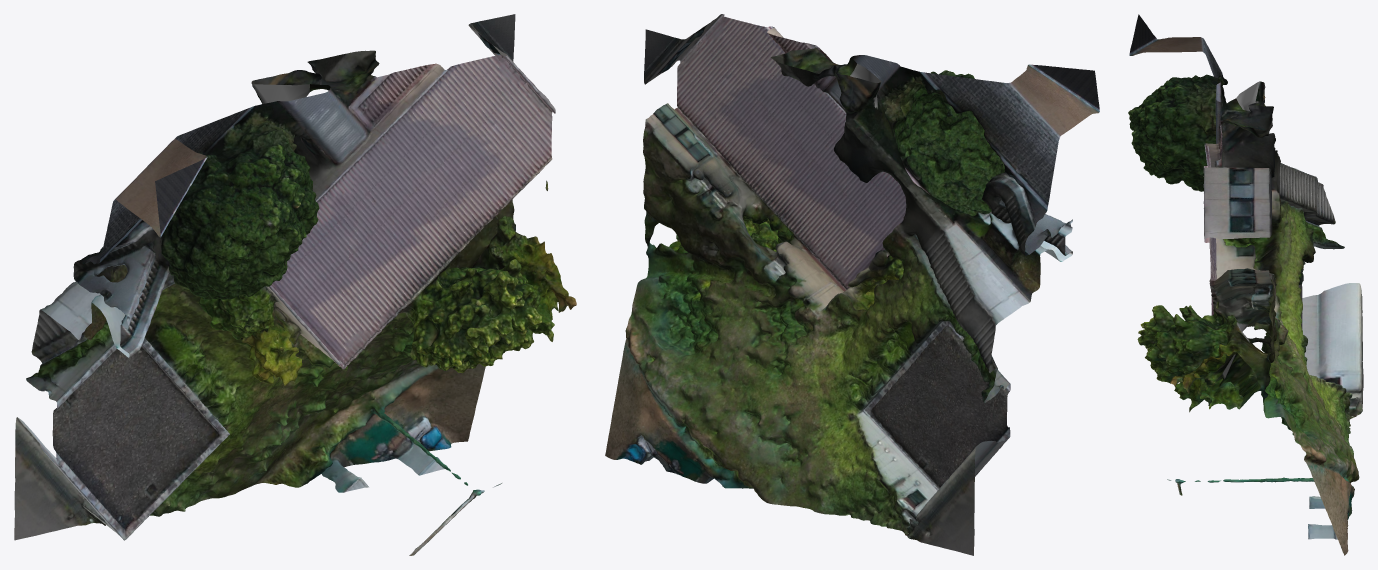
File: Tile_+014_+010.fbx
3 views of the same model, side by side, from view 1: azimuth 30°, elevation 25°; view 2: azimuth 150°, elevation 25°; view 3: azimuth 270°, elevation 25° (orthographic). The views are drawn at different scales.
Visible parts, largest first — view 1: DefaultName; view 2: DefaultName; view 3: DefaultName.
Part boxes in pixels (<box>): DefaultName: <box>14,14,576,555</box>; DefaultName: <box>605,14,1099,555</box>; DefaultName: <box>1128,14,1363,555</box>.
Bounding box in the file's own units: 22.54 × 22.54 × 13.02.
